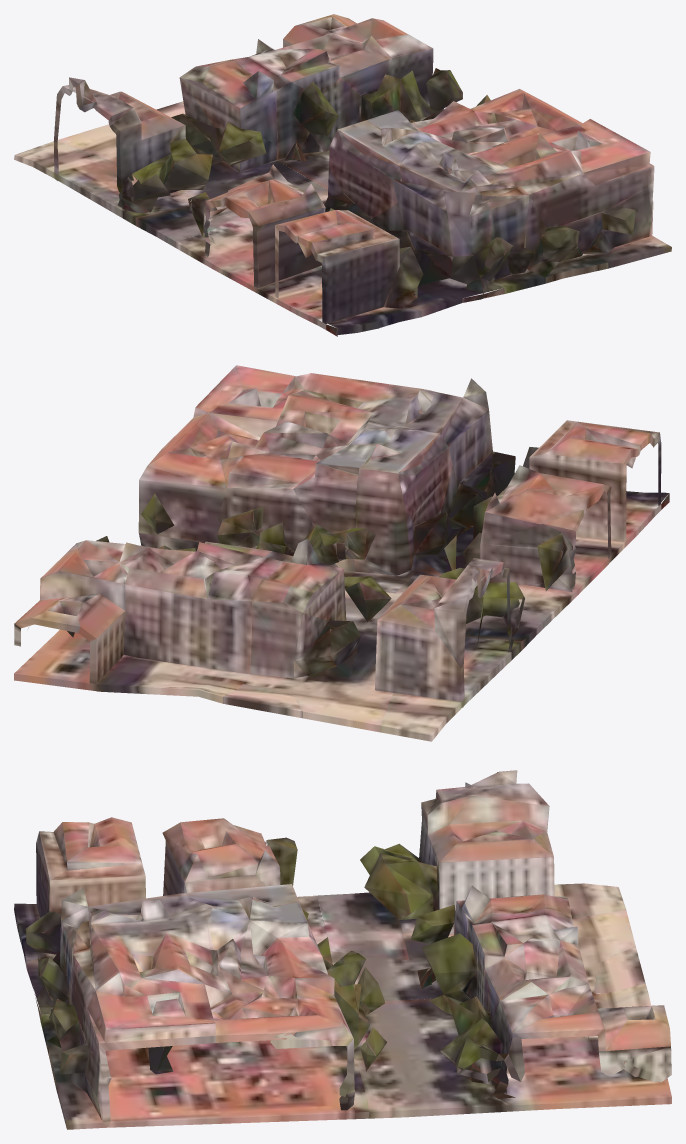
3 renders of one model, top to bottom at view 1: azimuth 30°, elevation 25°; view 2: azimuth 150°, elevation 25°; view 3: azimuth 270°, elevation 25°, orthographic. The views are drawn at different scales.
Visible parts, largest first — view 1: Mesh_0; view 2: Mesh_0; view 3: Mesh_0.
Part boxes in pixels (x1,y1,x2,y2): Mesh_0: (14,14,671,336); Mesh_0: (14,365,669,741); Mesh_0: (14,770,671,1129).
Bounding box in the file's own units: 133 × 40.3 × 165.
Materials: 1 (1 with a texture image).
